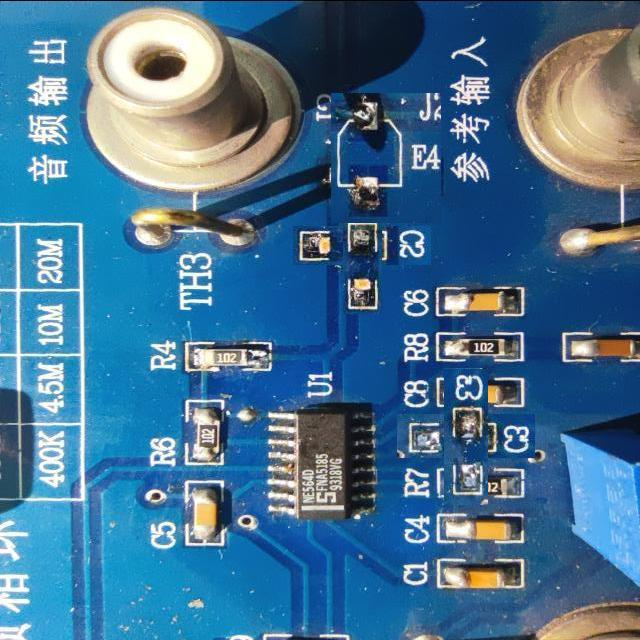miss_welding: (325, 98, 446, 219), (421, 391, 512, 482), (318, 201, 407, 290)
